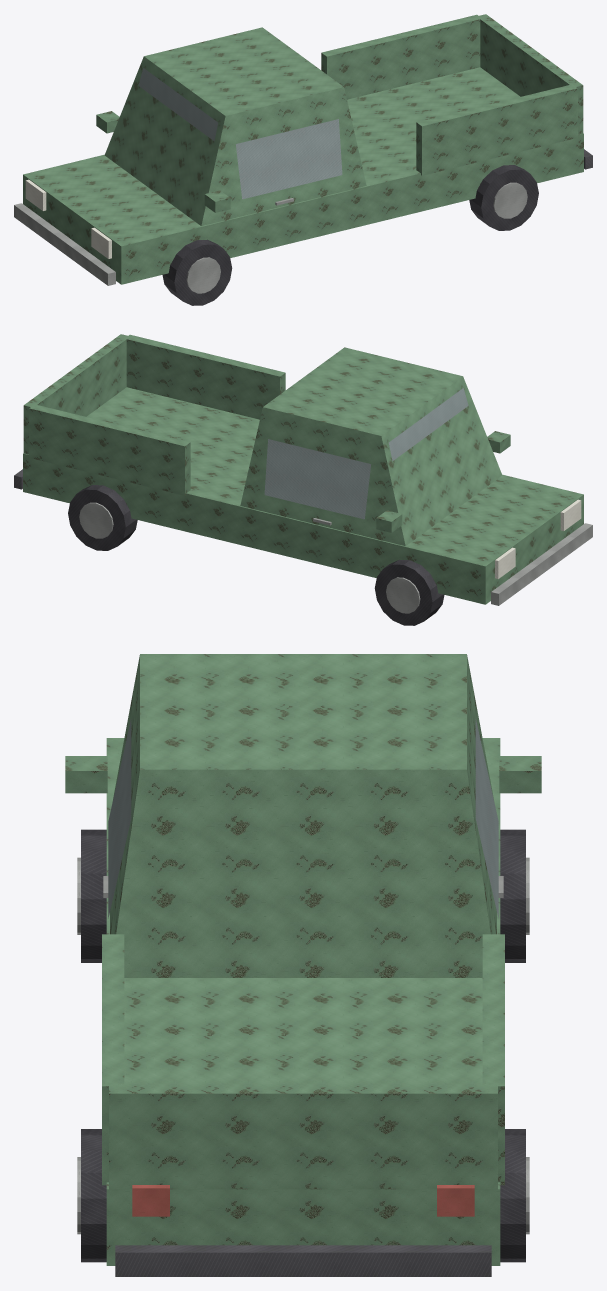
Rendered from vehicle_work_pickup.glb.
3 views of the same model, one above another, from view 1: azimuth 30°, elevation 25°; view 2: azimuth 150°, elevation 25°; view 3: azimuth 270°, elevation 25° (orthographic). The views are drawn at different scales.
Parts seen in each view (by area): view 1: vehicle_work_pickup; view 2: vehicle_work_pickup; view 3: vehicle_work_pickup.
Boxes of the visible parts, <box> form: vehicle_work_pickup: <box>14,14,592,305</box>; vehicle_work_pickup: <box>14,334,592,625</box>; vehicle_work_pickup: <box>65,654,541,1276</box>.
Bounding box in the file's own units: 5.03 × 1.68 × 2.14.
Materials: 7 (7 with a texture image).
